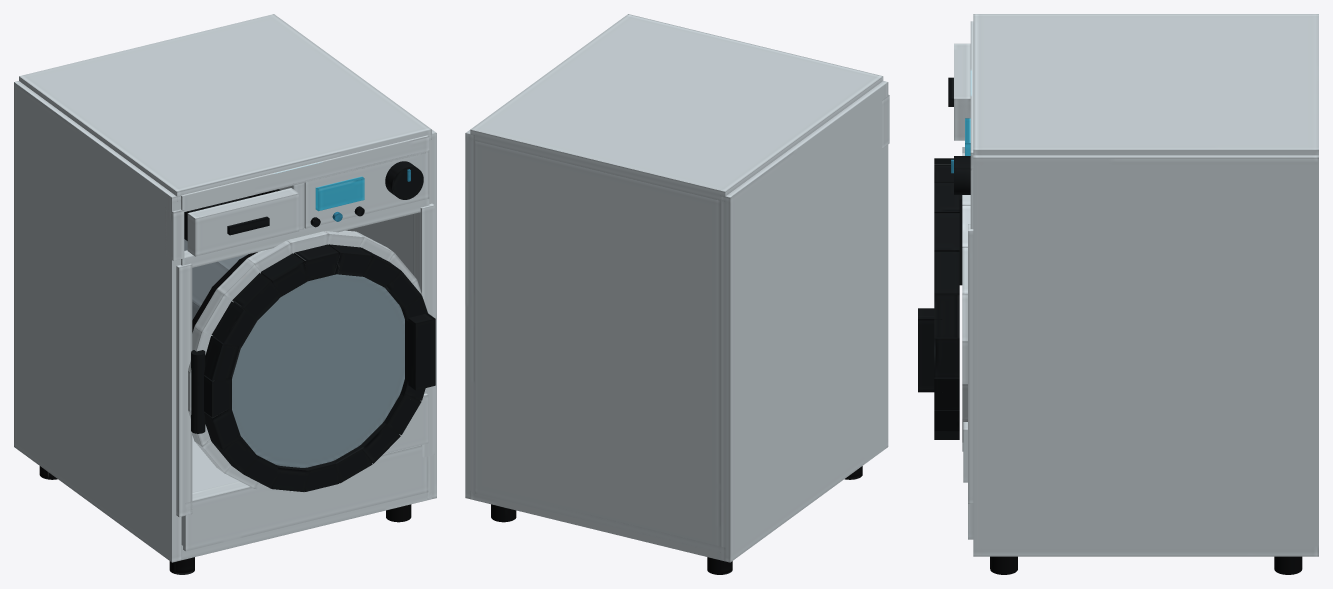
The model's file is source.glb.
3 views of the same model, side by side, from view 1: azimuth 30°, elevation 25°; view 2: azimuth 150°, elevation 25°; view 3: azimuth 270°, elevation 25° (orthographic). The views are drawn at different scales.
Size of the model in its own units: 0.6 by 0.85 by 0.7195.
1 material, 1 textured.
